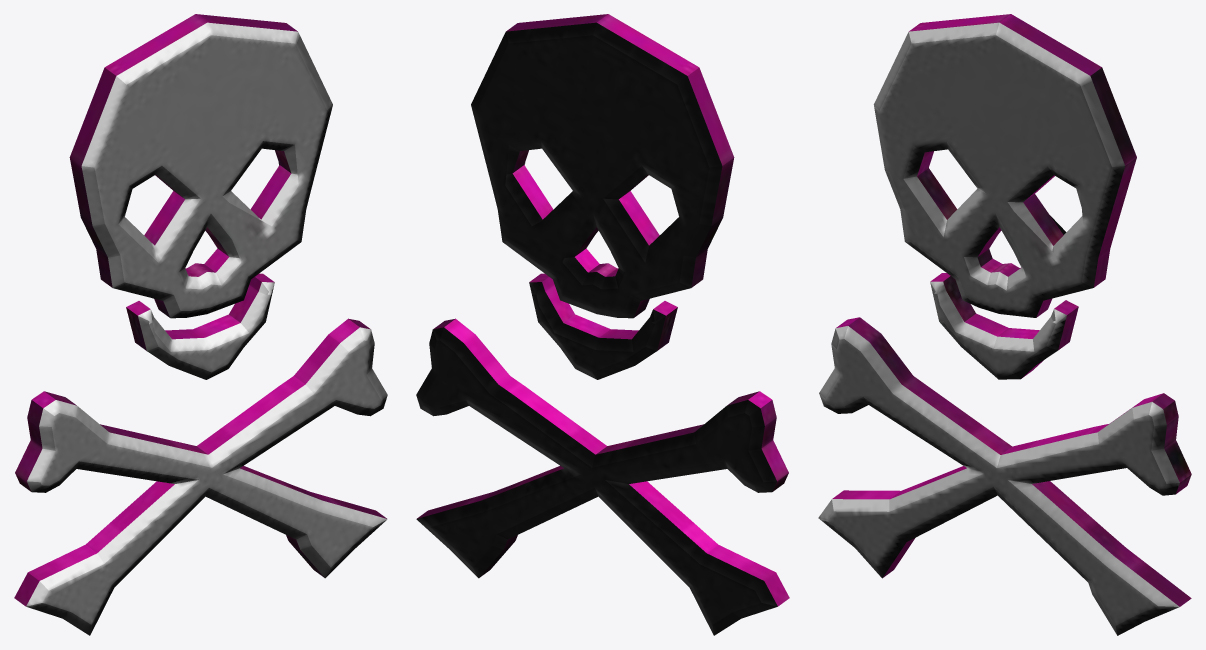
The model's file is dead.obj.
The picture shows the model from 3 angles, left to right: view 1: azimuth 30°, elevation 25°; view 2: azimuth 150°, elevation 25°; view 3: azimuth 330°, elevation 25°; orthographic projection.
Parts seen in each view (by area): view 1: Text003; view 2: Text003; view 3: Text003.
Part boxes in pixels (bbox=[...]): Text003: bbox=[14, 14, 387, 635]; Text003: bbox=[416, 14, 789, 635]; Text003: bbox=[818, 14, 1191, 635].
Bounding box in the file's own units: 17.72 × 27.36 × 1.62.
1 material, 1 textured.
